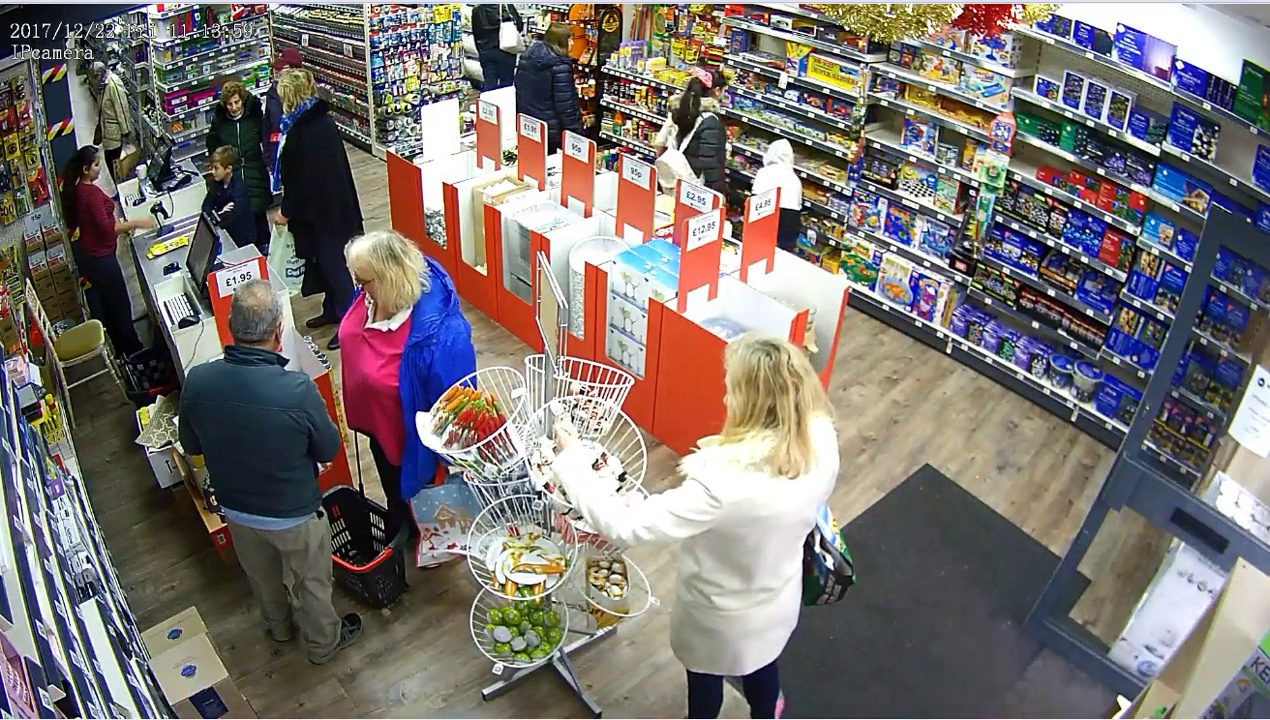face: (209, 157, 232, 184), (222, 95, 245, 119)
